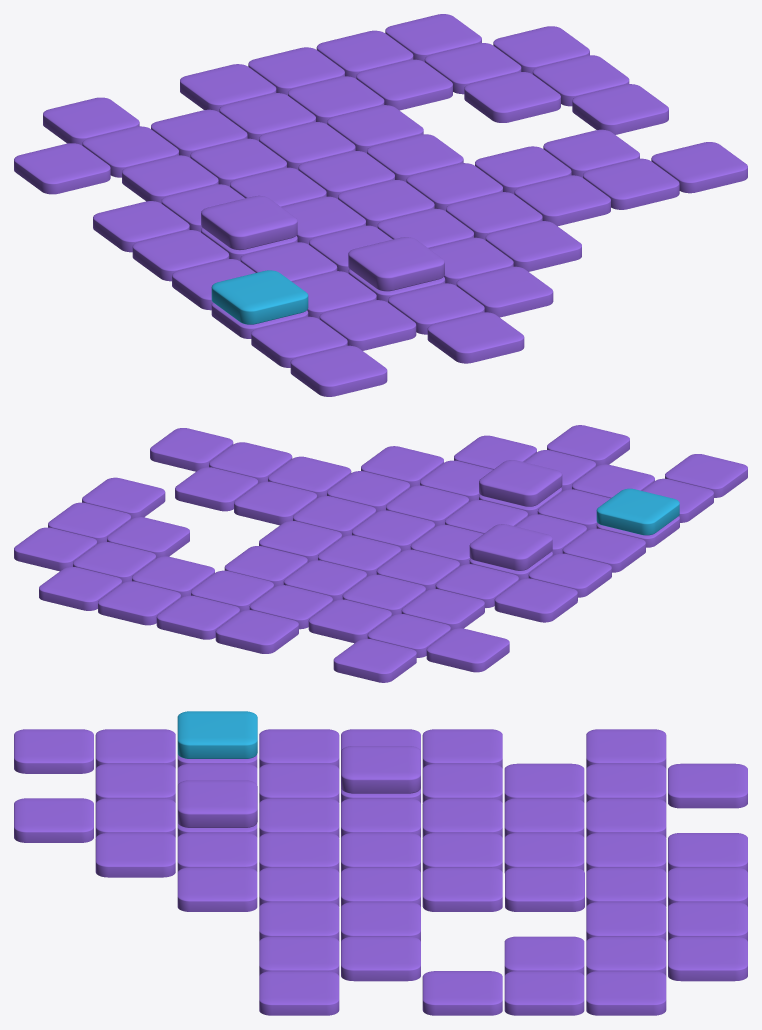
Rendered from Level0.glb.
3 views of the same model, one above another, from view 1: azimuth 30°, elevation 25°; view 2: azimuth 150°, elevation 25°; view 3: azimuth 270°, elevation 25° (orthographic). The views are drawn at different scales.
Parts seen in each view (by area): view 1: block, block.002, block.001, platform.037, platform.036, platform.001, platform.030, platform.044, platform.049, platform.050, platform.048, platform.034 (+42 smaller); view 2: block, block.001, block.002, platform.001, platform.002, platform.005, platform.009, platform.015, platform.045, platform.016, platform.029, platform.004 (+42 smaller); view 3: block, block.002, block.001, platform.045, platform.029, platform.002, platform.042, platform.050, platform.044, platform.043, platform.048, platform.027 (+40 smaller).
Part boxes in pixels (bbox=[...]): block: bbox=[211, 270, 308, 324]; block.002: bbox=[348, 237, 444, 291]; block.001: bbox=[201, 195, 297, 250]; platform.037: bbox=[427, 312, 524, 363]; platform.036: bbox=[290, 345, 387, 396]; platform.001: bbox=[14, 143, 110, 194]; platform.030: bbox=[464, 72, 560, 122]; platform.044: bbox=[572, 84, 668, 134]; platform.049: bbox=[583, 158, 679, 209]; platform.050: bbox=[651, 142, 747, 193]; platform.048: bbox=[456, 266, 553, 317]; platform.034: bbox=[319, 300, 416, 350]; block: bbox=[596, 488, 679, 535]; block.001: bbox=[469, 524, 552, 570]; block.002: bbox=[479, 460, 562, 506]; platform.001: bbox=[426, 628, 509, 672]; platform.002: bbox=[333, 638, 416, 682]; platform.005: bbox=[494, 578, 577, 622]; platform.009: bbox=[215, 610, 298, 653]; platform.015: bbox=[156, 595, 239, 639]; platform.045: bbox=[175, 467, 258, 511]; platform.016: bbox=[98, 581, 180, 625]; platform.029: bbox=[39, 567, 121, 610]; platform.004: bbox=[308, 599, 391, 643]; block: bbox=[177, 711, 257, 758]; block.002: bbox=[177, 780, 257, 827]; block.001: bbox=[341, 746, 420, 793]; platform.045: bbox=[341, 936, 420, 981]; platform.029: bbox=[668, 936, 747, 981]; platform.002: bbox=[668, 763, 747, 808]; platform.042: bbox=[504, 971, 584, 1015]; platform.050: bbox=[259, 971, 339, 1015]; platform.044: bbox=[422, 971, 502, 1015]; platform.043: bbox=[586, 971, 666, 1015]; platform.048: bbox=[95, 833, 175, 877]; platform.027: bbox=[422, 867, 502, 911].
Size of what is drawn, in the model's own units: 19.75 by 1.04 by 22.22.
